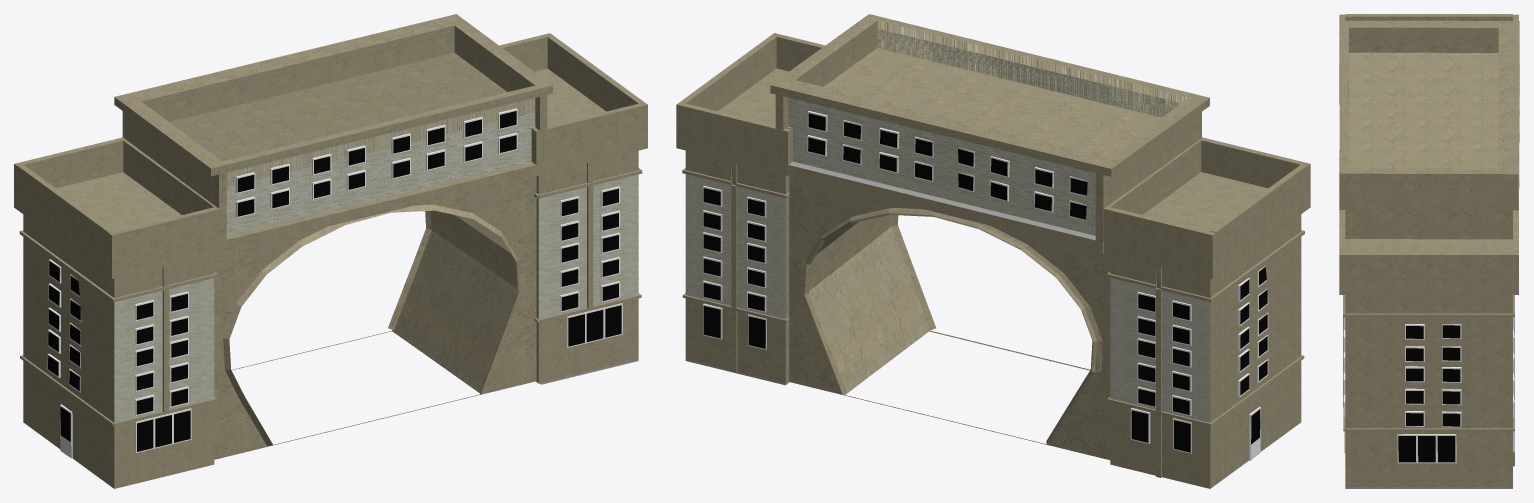
Rendered from Building_withArch_VAL.fbx.
3 views of the same model, side by side, from view 1: azimuth 30°, elevation 25°; view 2: azimuth 150°, elevation 25°; view 3: azimuth 270°, elevation 25° (orthographic). The views are drawn at different scales.
Visible parts, largest first — view 1: pCube11 (×2), pCube13, polySurface3; view 2: pCube11 (×2), pCube13, polySurface3, window31; view 3: pCube11 (×2), pCube13, window31, window1, window30, window15, window25, window21, window22, window17, window16, window18 (+3 smaller).
Boxes of the visible parts, x1,y1,x2,y2 form: pCube11 (×2): [14, 33, 647, 488]; pCube13: [114, 14, 552, 251]; polySurface3: [214, 176, 536, 459]; pCube11 (×2): [676, 33, 1310, 488]; pCube13: [770, 14, 1209, 253]; polySurface3: [789, 176, 1110, 459]; window31: [1130, 408, 1150, 443]; pCube11 (×2): [1339, 14, 1518, 488]; pCube13: [1339, 20, 1519, 239]; window31: [1397, 434, 1417, 463]; window1: [1436, 434, 1456, 463]; window30: [1417, 434, 1436, 463]; window15: [1442, 411, 1461, 427]; window25: [1405, 366, 1424, 382]; window21: [1405, 388, 1424, 404]; window22: [1442, 389, 1461, 405]; window17: [1405, 346, 1424, 362]; window16: [1405, 411, 1424, 426]; window18: [1442, 346, 1461, 361].
Size of the model in its own units: 27.79 by 14.84 by 8.82.
